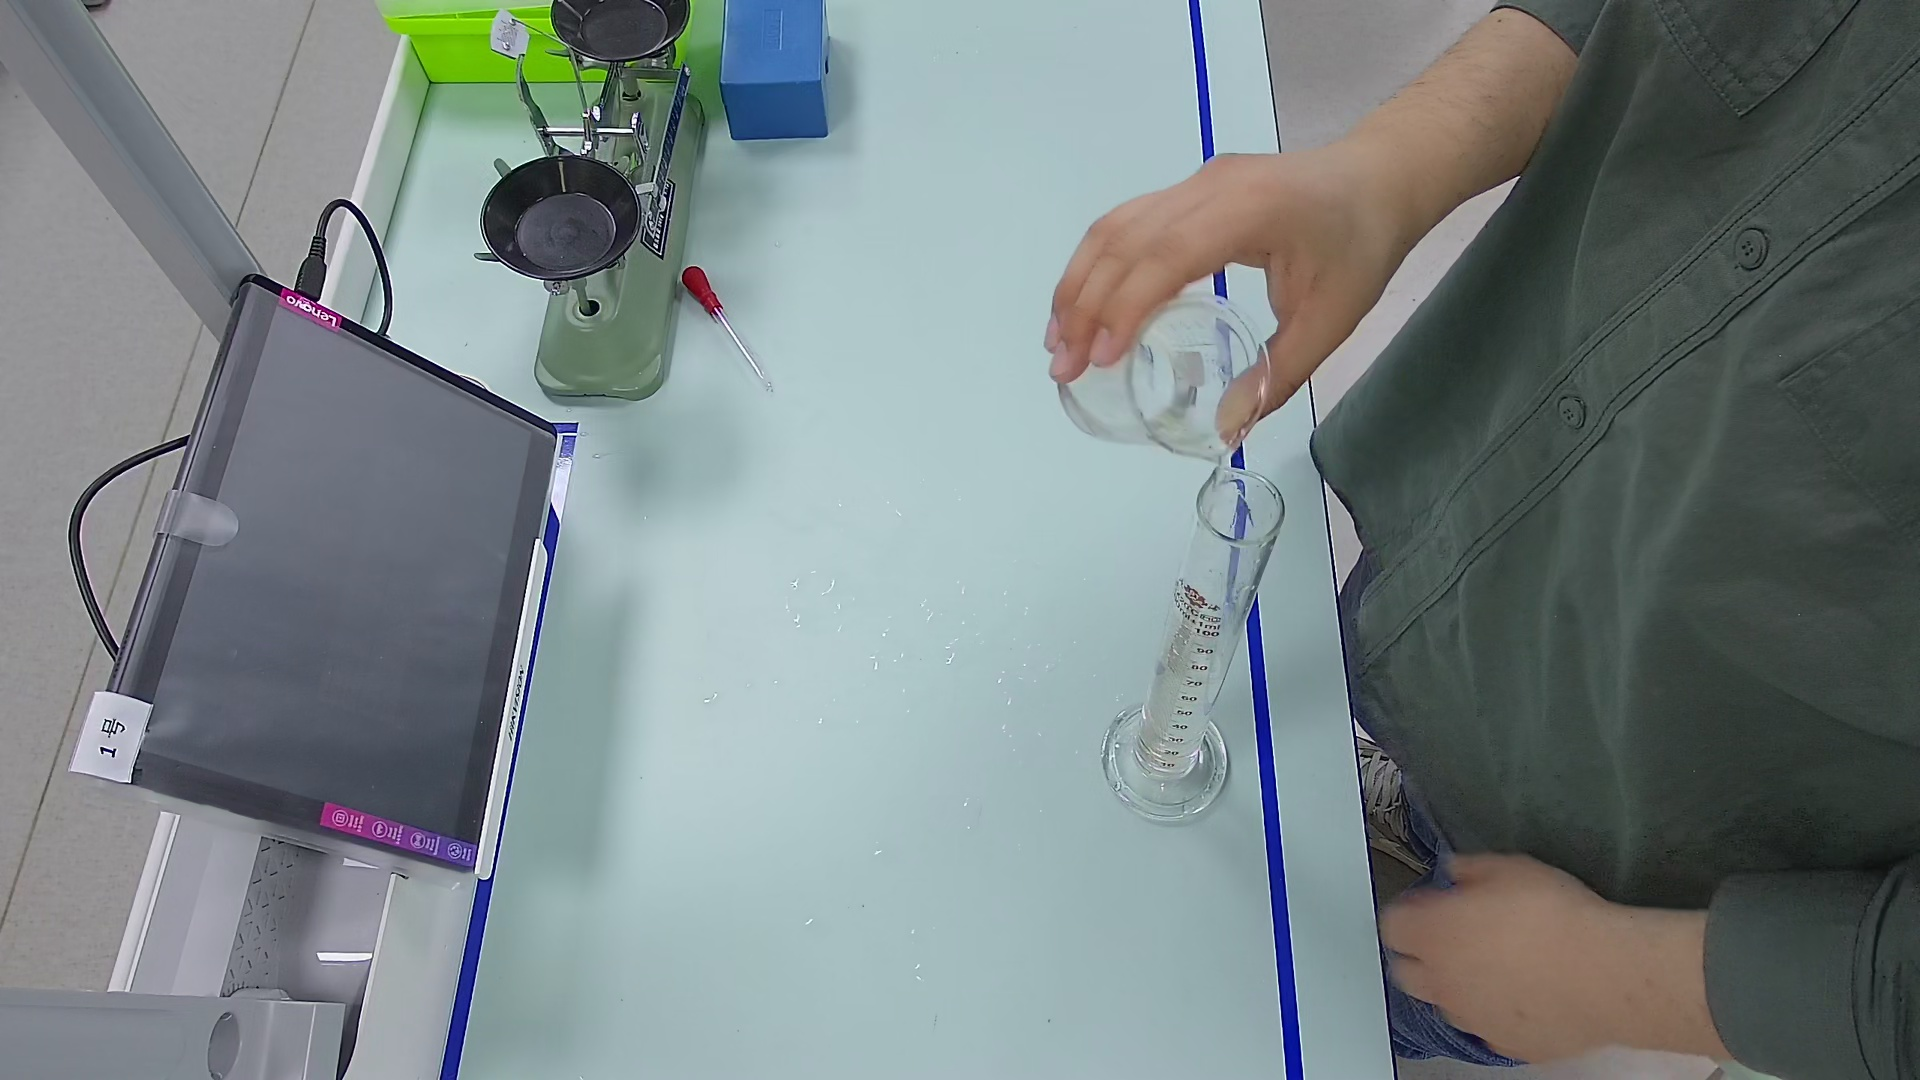ao: (1160, 642, 1240, 694)
bei: (1051, 298, 1276, 463)
diguan: (673, 258, 783, 401)
diguantou: (683, 260, 720, 323)
hand: (1044, 156, 1361, 404), (1374, 832, 1604, 1073)
liangdi: (1100, 709, 1232, 827)
liangtong: (1116, 469, 1283, 833)
tuo: (473, 160, 644, 290), (537, 1, 704, 67)
